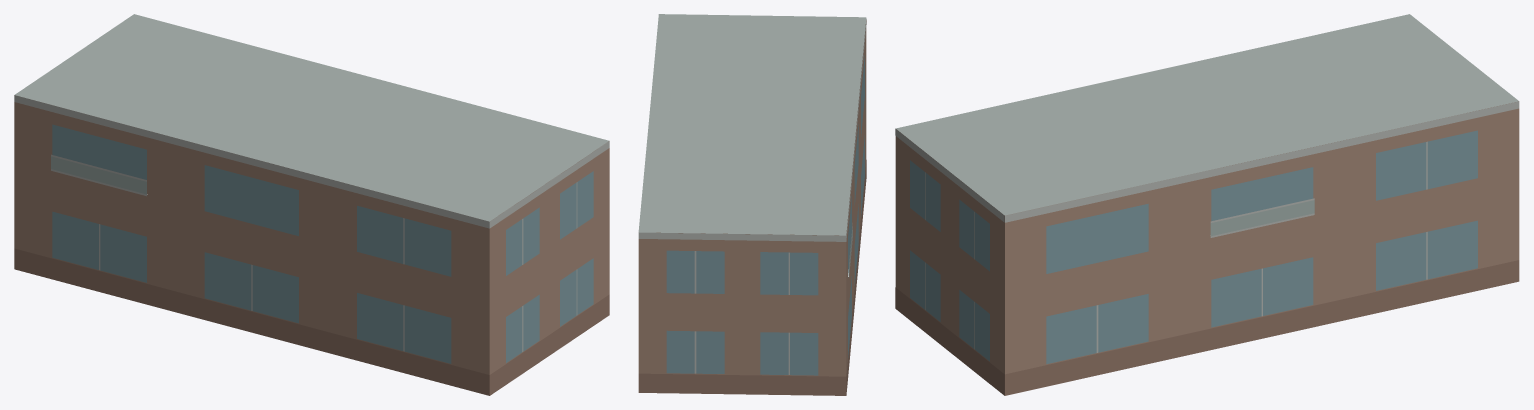
File: survey-upis-32829104.glb
3 views of the same model, side by side, from view 1: azimuth 30°, elevation 25°; view 2: azimuth 150°, elevation 25°; view 3: azimuth 270°, elevation 25° (orthographic). The views are drawn at different scales.
Parts seen in each view (by area): view 1: survey-upis-32829104.tmp; view 2: survey-upis-32829104.tmp; view 3: survey-upis-32829104.tmp.
Boxes of the visible parts, x1,y1,x2,y2 form: survey-upis-32829104.tmp: (14,14,609,395); survey-upis-32829104.tmp: (638,14,866,395); survey-upis-32829104.tmp: (895,14,1519,395).
Size of the model in its own units: 14.65 by 6.1 by 19.15.
